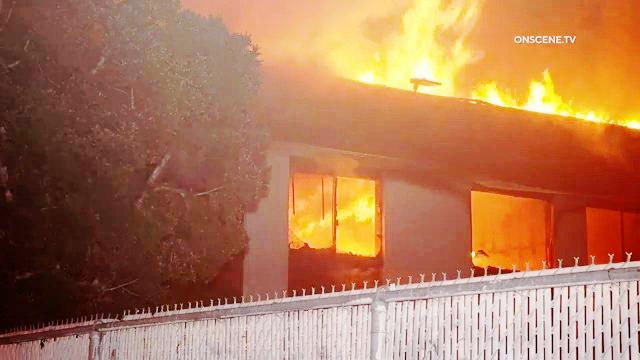fire: (362, 5, 490, 87), (300, 190, 373, 250), (523, 70, 580, 112), (468, 78, 517, 111)
